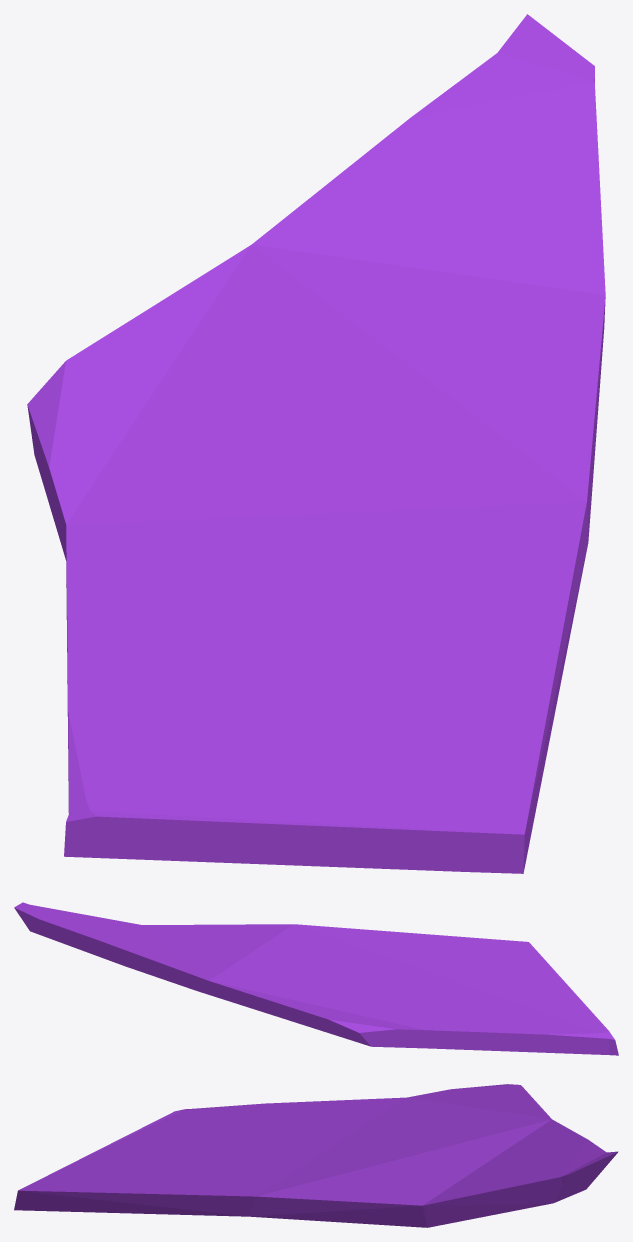
The model's file is Glass_101_2_1_chunks.fbx.
3 views of the same model, one above another, from view 1: azimuth 30°, elevation 25°; view 2: azimuth 150°, elevation 25°; view 3: azimuth 270°, elevation 25° (orthographic). The views are drawn at different scales.
Visible parts, largest first — view 1: Glass_101_2_1_8, Glass_101_2_1_1, Glass_101_2_1_9, Glass_101_2_1_3, Glass_101_2_1_10, Glass_101_2_1_12, Glass_101_2_1_0, Glass_101_2_1_11, Glass_101_2_1_15, Glass_101_2_1_18, Glass_101_2_1_16, Glass_101_2_1_7 (+5 smaller); view 2: Glass_101_2_1_10, Glass_101_2_1_8, Glass_101_2_1_1, Glass_101_2_1_0, Glass_101_2_1_3, Glass_101_2_1_9, Glass_101_2_1_11, Glass_101_2_1_12, Glass_101_2_1_15, Glass_101_2_1_7, Glass_101_2_1_18, Glass_101_2_1_16 (+4 smaller); view 3: Glass_101_2_1_12, Glass_101_2_1_8, Glass_101_2_1_13, Glass_101_2_1_1, Glass_101_2_1_9, Glass_101_2_1_3, Glass_101_2_1_10, Glass_101_2_1_0, Glass_101_2_1_16, Glass_101_2_1_11, Glass_101_2_1_7, Glass_101_2_1_18 (+6 smaller).
Part boxes in pixels (left/top/right/bottom): Glass_101_2_1_8: left=65, top=496, right=439, bottom=682; Glass_101_2_1_1: left=252, top=14, right=535, bottom=346; Glass_101_2_1_9: left=295, top=634, right=537, bottom=873; Glass_101_2_1_3: left=59, top=327, right=399, bottom=543; Glass_101_2_1_10: left=64, top=580, right=252, bottom=862; Glass_101_2_1_12: left=418, top=21, right=602, bottom=324; Glass_101_2_1_0: left=27, top=244, right=282, bottom=518; Glass_101_2_1_11: left=178, top=680, right=411, bottom=865; Glass_101_2_1_15: left=329, top=414, right=485, bottom=572; Glass_101_2_1_18: left=367, top=329, right=544, bottom=439; Glass_101_2_1_16: left=467, top=479, right=592, bottom=619; Glass_101_2_1_7: left=420, top=590, right=561, bottom=779; Glass_101_2_1_10: left=449, top=996, right=618, bottom=1055; Glass_101_2_1_8: left=349, top=957, right=485, bottom=1049; Glass_101_2_1_1: left=14, top=907, right=252, bottom=999; Glass_101_2_1_0: left=209, top=978, right=414, bottom=1047; Glass_101_2_1_3: left=239, top=956, right=425, bottom=1039; Glass_101_2_1_9: left=414, top=938, right=549, bottom=987; Glass_101_2_1_11: left=476, top=965, right=593, bottom=1013; Glass_101_2_1_12: left=15, top=902, right=213, bottom=953; Glass_101_2_1_15: left=283, top=943, right=366, bottom=975; Glass_101_2_1_7: left=381, top=931, right=478, bottom=960; Glass_101_2_1_18: left=202, top=932, right=289, bottom=964; Glass_101_2_1_16: left=299, top=924, right=377, bottom=950; Glass_101_2_1_12: left=423, top=1154, right=612, bottom=1221; Glass_101_2_1_8: left=202, top=1097, right=408, bottom=1171; Glass_101_2_1_13: left=291, top=1180, right=461, bottom=1227; Glass_101_2_1_1: left=431, top=1119, right=618, bottom=1172; Glass_101_2_1_9: left=14, top=1146, right=214, bottom=1210; Glass_101_2_1_3: left=343, top=1094, right=481, bottom=1153; Glass_101_2_1_10: left=145, top=1099, right=363, bottom=1137; Glass_101_2_1_0: left=426, top=1084, right=551, bottom=1129; Glass_101_2_1_16: left=171, top=1175, right=303, bottom=1219; Glass_101_2_1_11: left=60, top=1126, right=226, bottom=1169; Glass_101_2_1_7: left=60, top=1167, right=231, bottom=1212; Glass_101_2_1_18: left=341, top=1150, right=441, bottom=1188.
Bounding box in the file's own units: 1105 × 448 × 1148.
